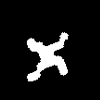single_crochet: (27, 32, 67, 80)
